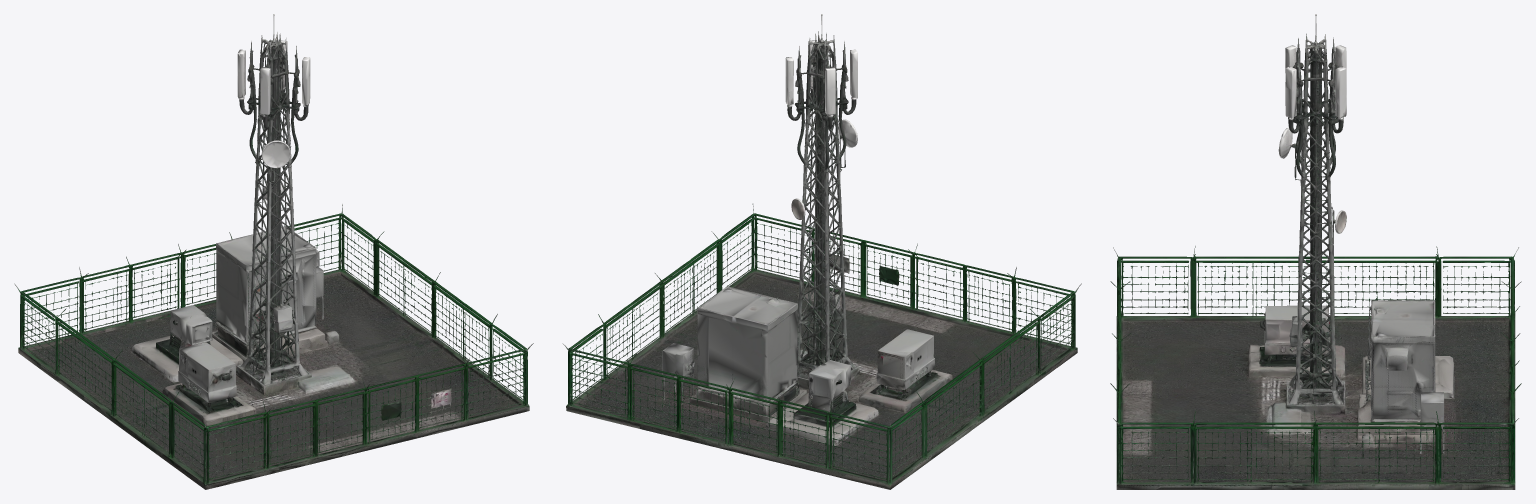
Rendered from cell_tower.glb.
The picture shows the model from 3 angles, left to right: view 1: azimuth 30°, elevation 25°; view 2: azimuth 150°, elevation 25°; view 3: azimuth 270°, elevation 25°; orthographic projection. The views are drawn at different scales.
Visible parts, largest first — view 1: cell_tower; view 2: cell_tower; view 3: cell_tower.
Boxes of the visible parts, bbox=[...] form: cell_tower: bbox=[14, 14, 533, 489]; cell_tower: bbox=[562, 14, 1081, 489]; cell_tower: bbox=[1110, 14, 1521, 489].
Bounding box in the file's own units: 1.81 × 1.9 × 1.81.
1 material, 1 textured.
